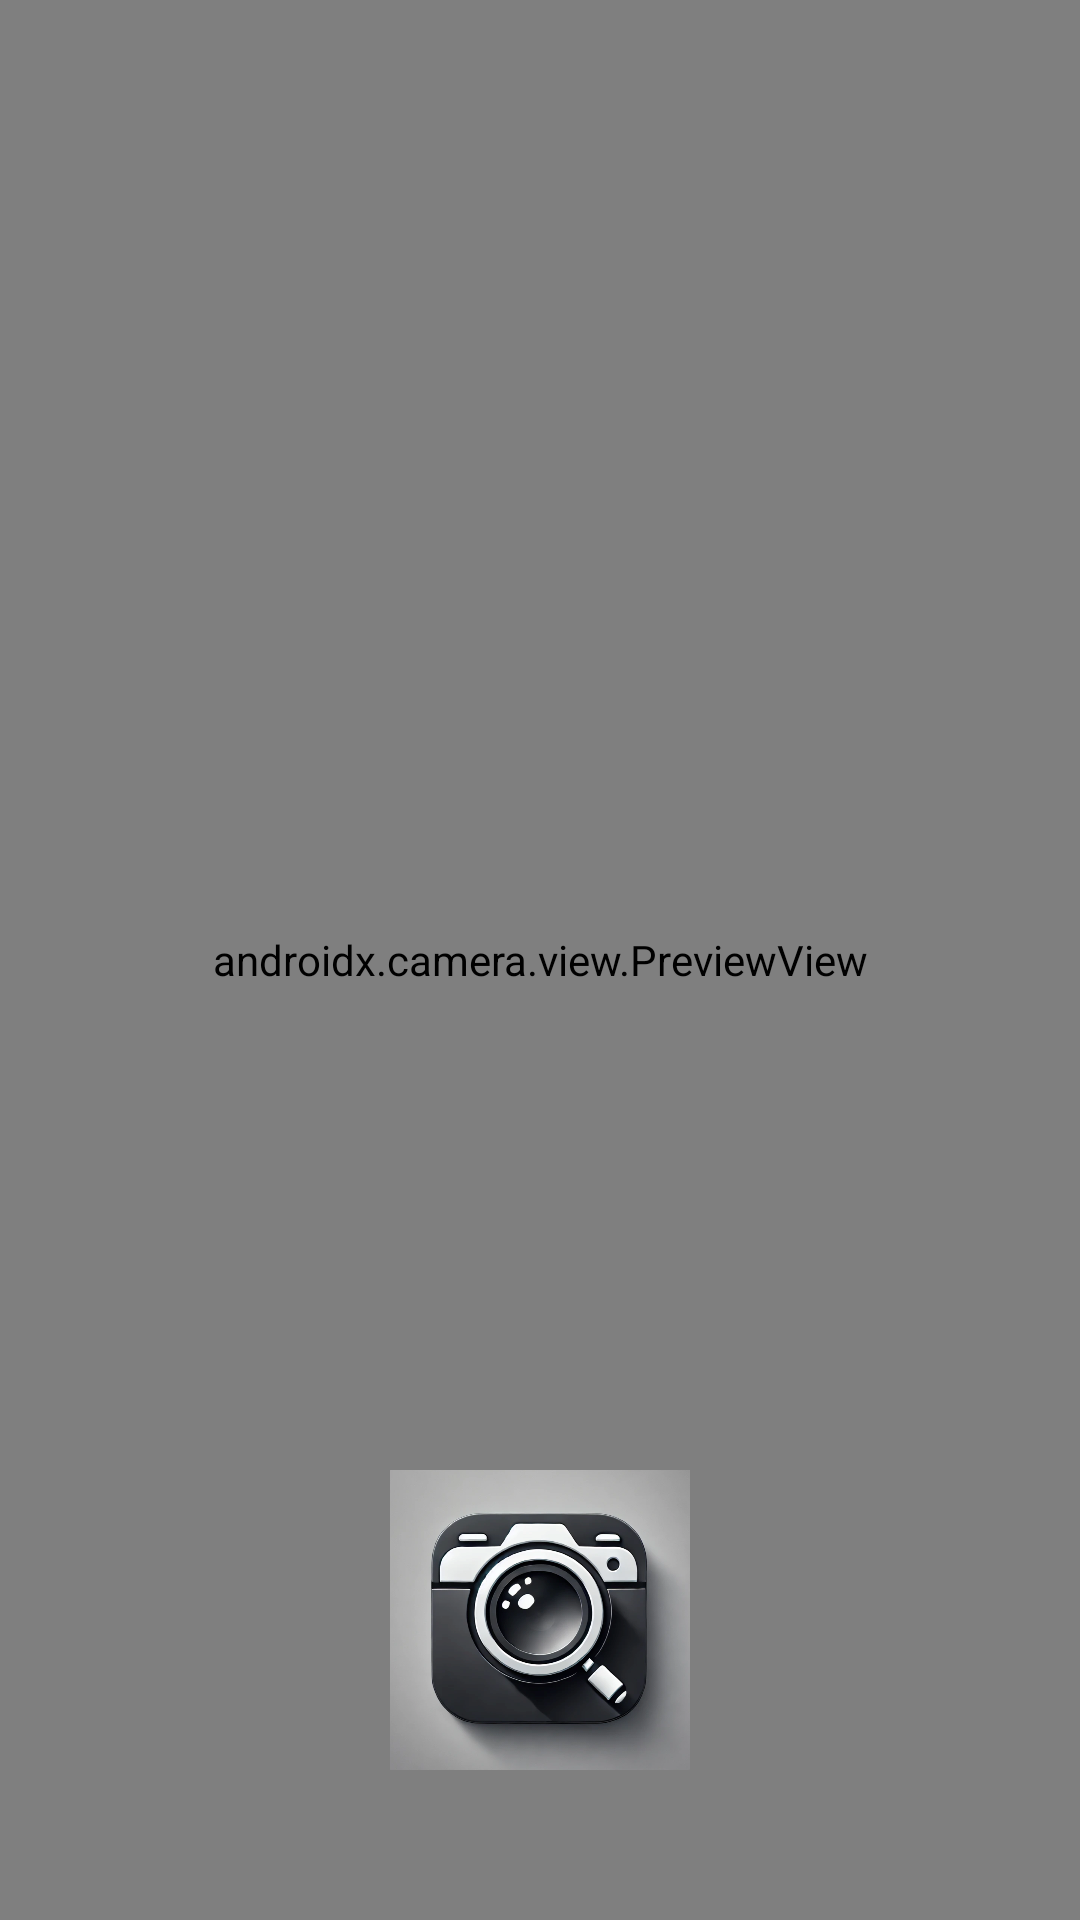

Icon bounding boxes for this 1080x1920 phone screenshot, format (x1, y1, x2, y2):
촬영 버튼: (390, 1470, 690, 1770)
